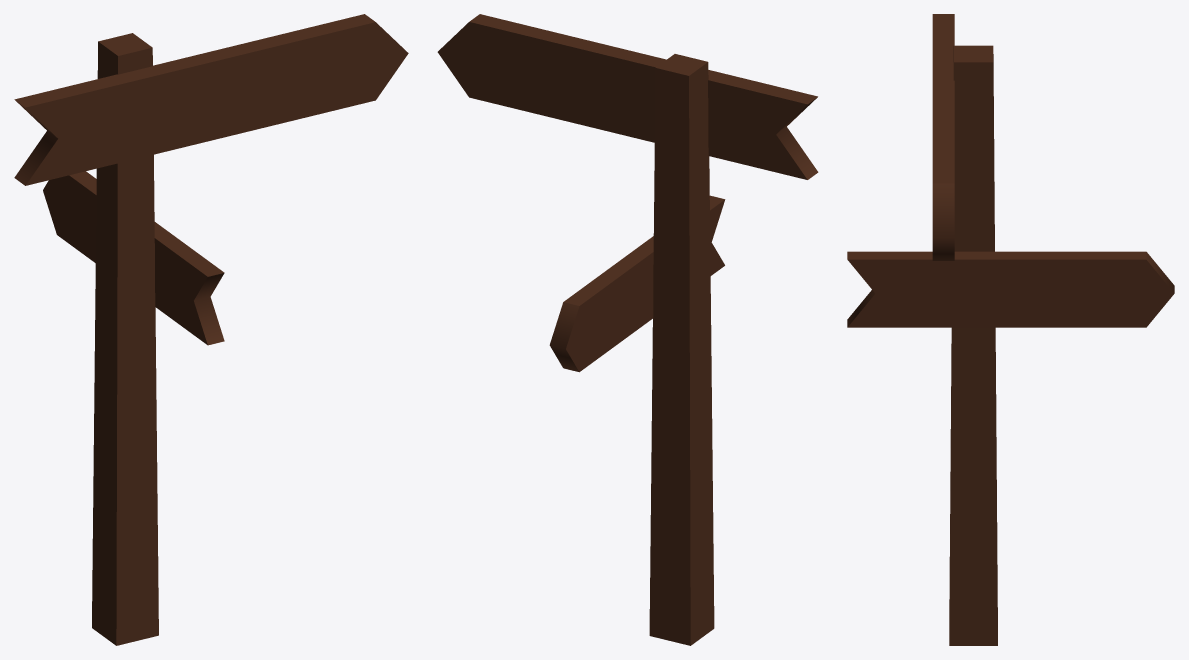
The model's file is Sign 1.fbx.
The picture shows the model from 3 angles, left to right: view 1: azimuth 30°, elevation 25°; view 2: azimuth 150°, elevation 25°; view 3: azimuth 270°, elevation 25°; orthographic projection. The views are drawn at different scales.
Parts seen in each view (by area): view 1: pCube123; view 2: pCube123; view 3: pCube123.
Part boxes in pixels (box(x1,y1,x2,y2)): pCube123: box(14, 14, 408, 645); pCube123: box(437, 14, 818, 645); pCube123: box(847, 14, 1174, 645).
Size of the model in its own units: 9.01 by 13.19 by 6.72.
